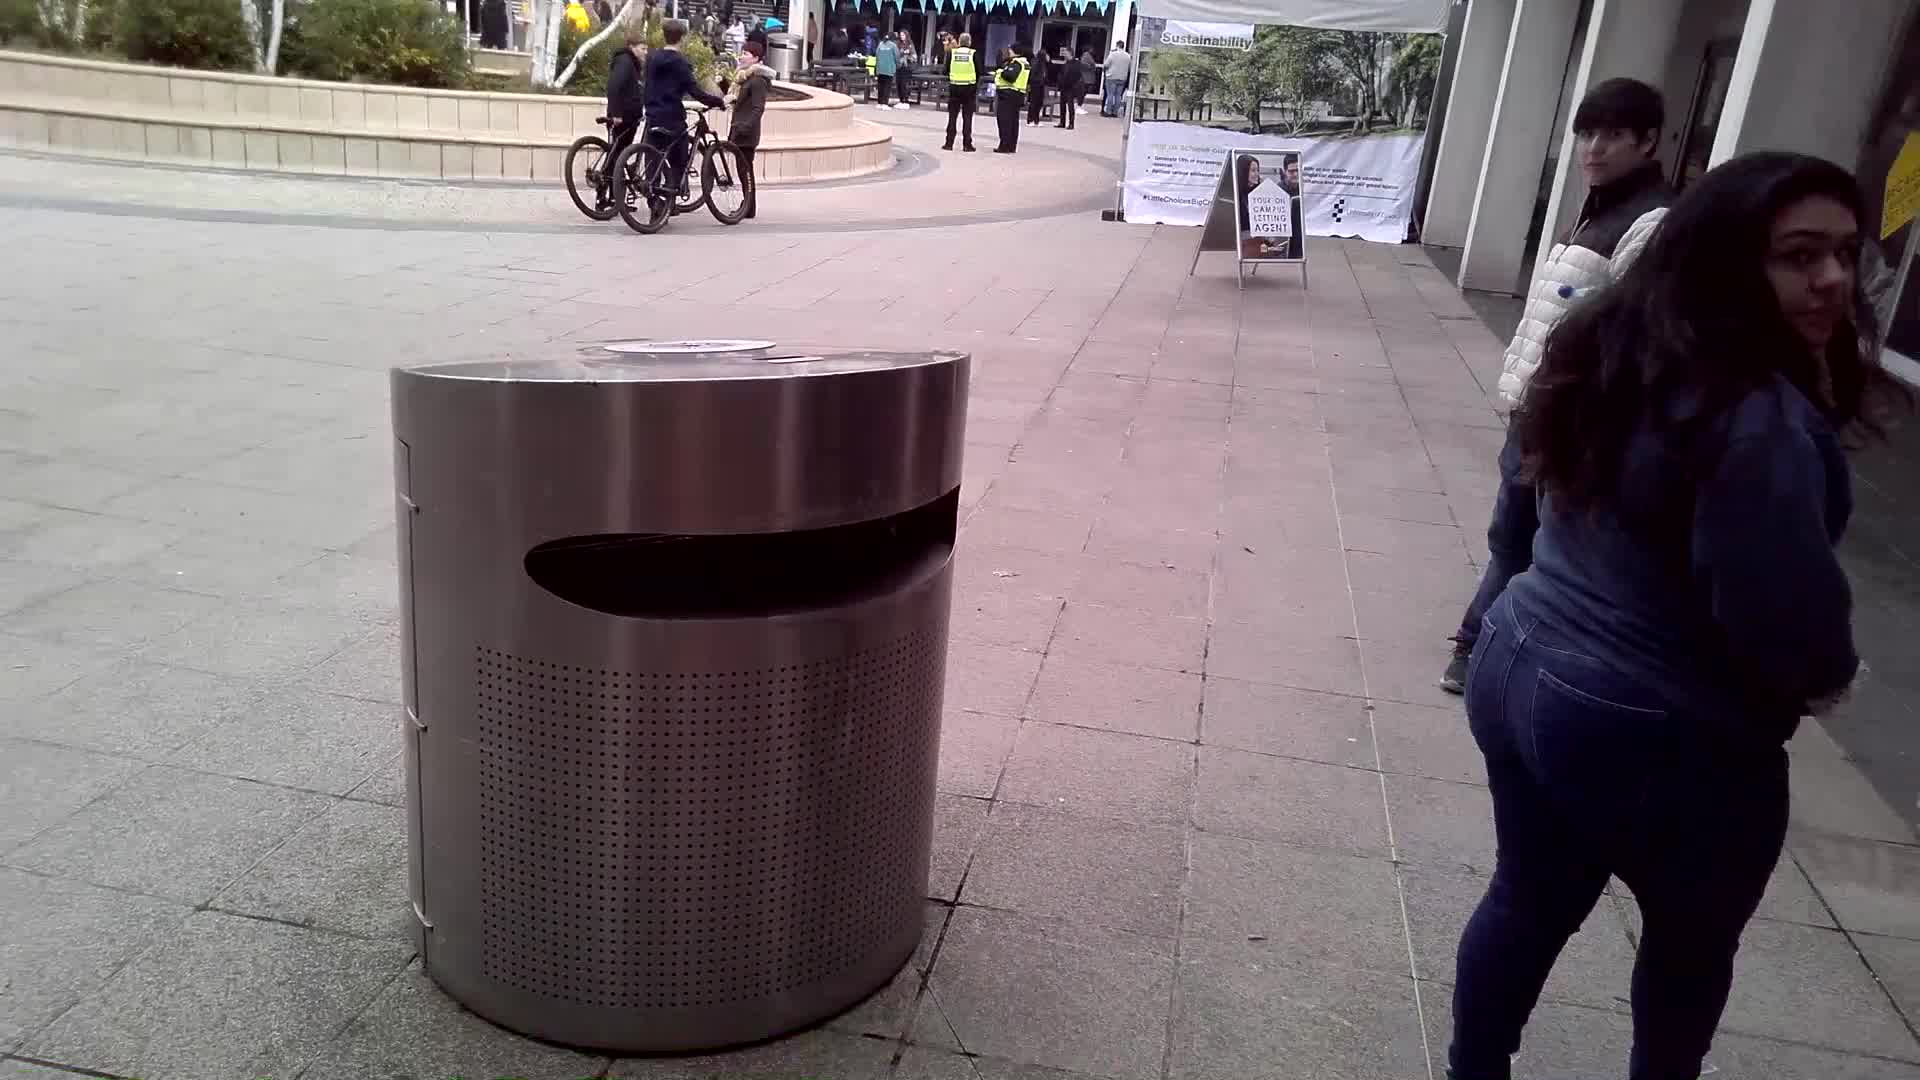Bin: (390, 337, 930, 1033)
Person: (1468, 167, 1878, 1080), (721, 37, 772, 223), (656, 17, 694, 201), (612, 33, 646, 177)
